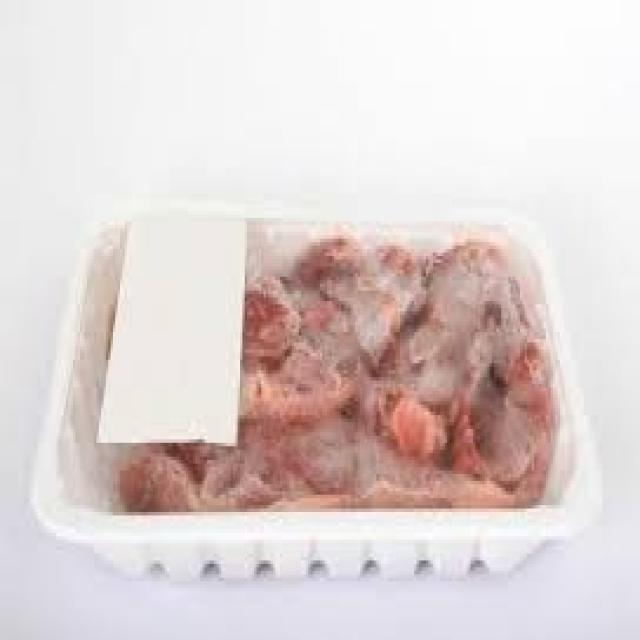Organik: (44, 153, 596, 623), (246, 217, 530, 514)
